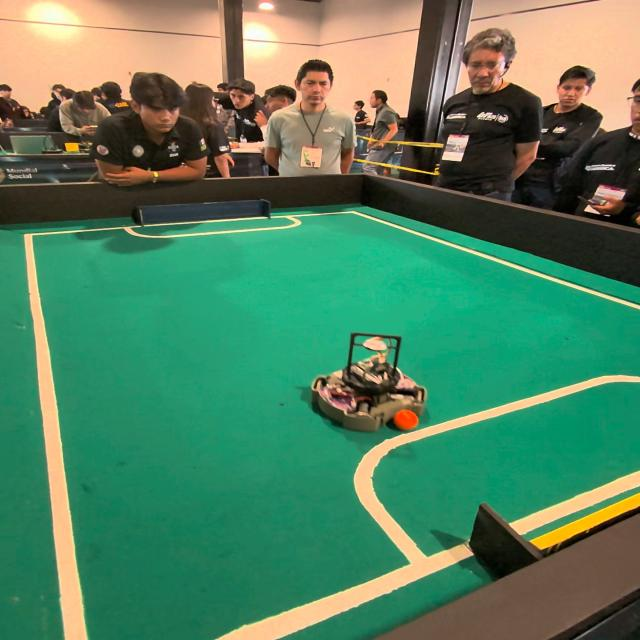Robot: (315, 333, 426, 435)
pelota: (384, 404, 436, 442)
